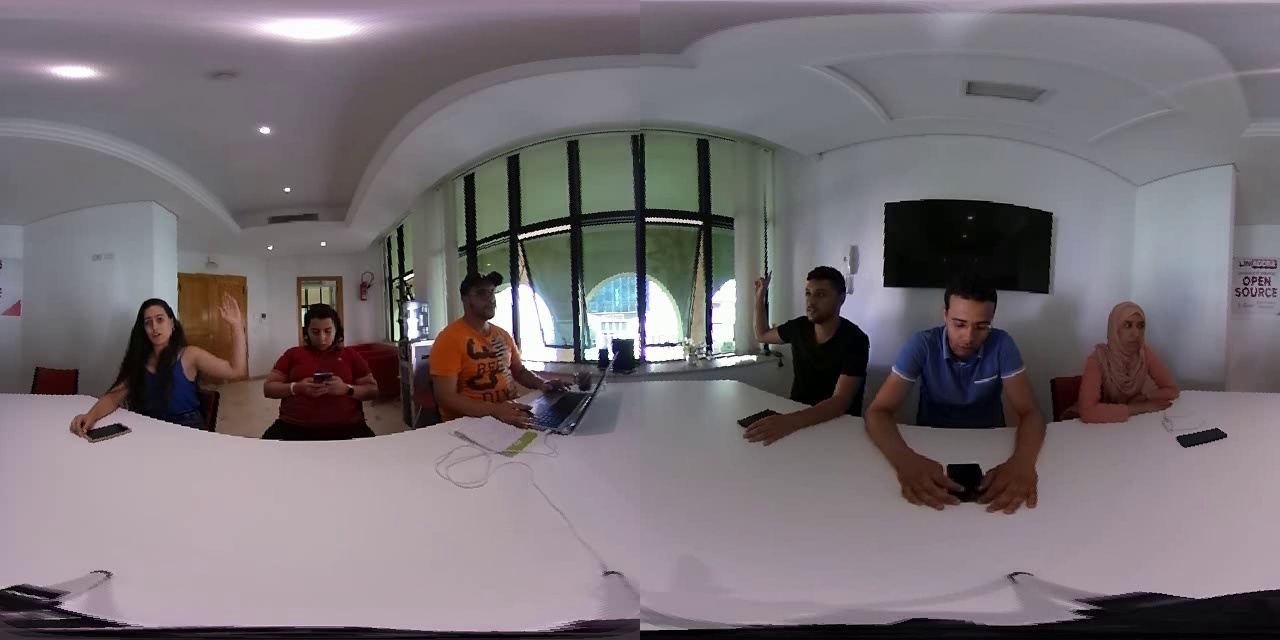hand_up: (744, 266, 790, 352)
person: (870, 260, 1053, 515), (67, 279, 253, 481), (728, 248, 871, 459), (428, 276, 565, 438), (263, 288, 383, 456), (1073, 288, 1188, 433)
voting: (211, 293, 247, 396)
